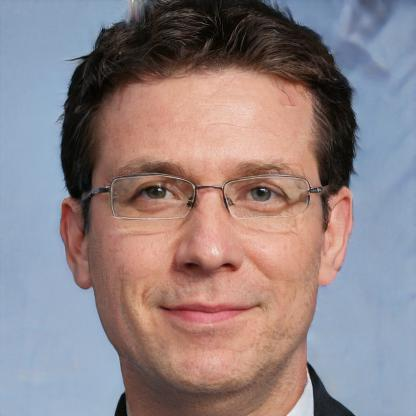glasses: (84, 172, 326, 240)
